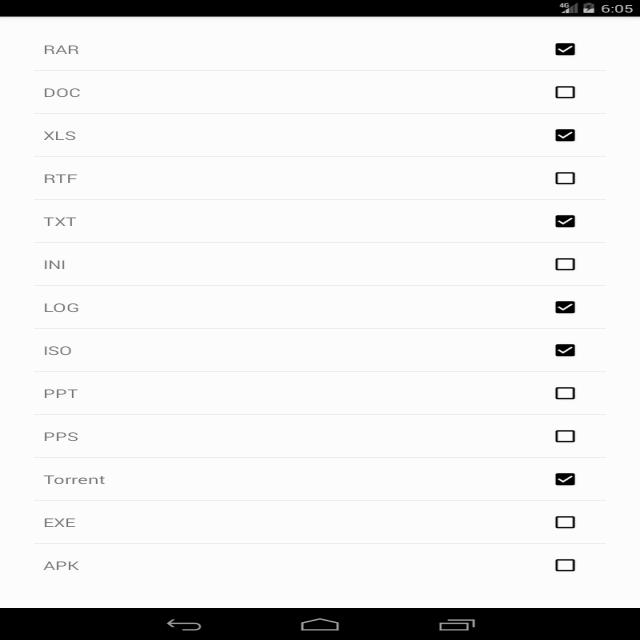CheckBox: (543, 213, 593, 233), (546, 123, 588, 145), (547, 469, 594, 487), (546, 38, 584, 60), (546, 81, 586, 101), (545, 342, 589, 360), (543, 168, 583, 186), (550, 250, 582, 272), (547, 382, 584, 401), (550, 297, 587, 315), (550, 514, 588, 530), (550, 428, 582, 444), (554, 556, 576, 572)
TextView: (21, 38, 110, 576)
